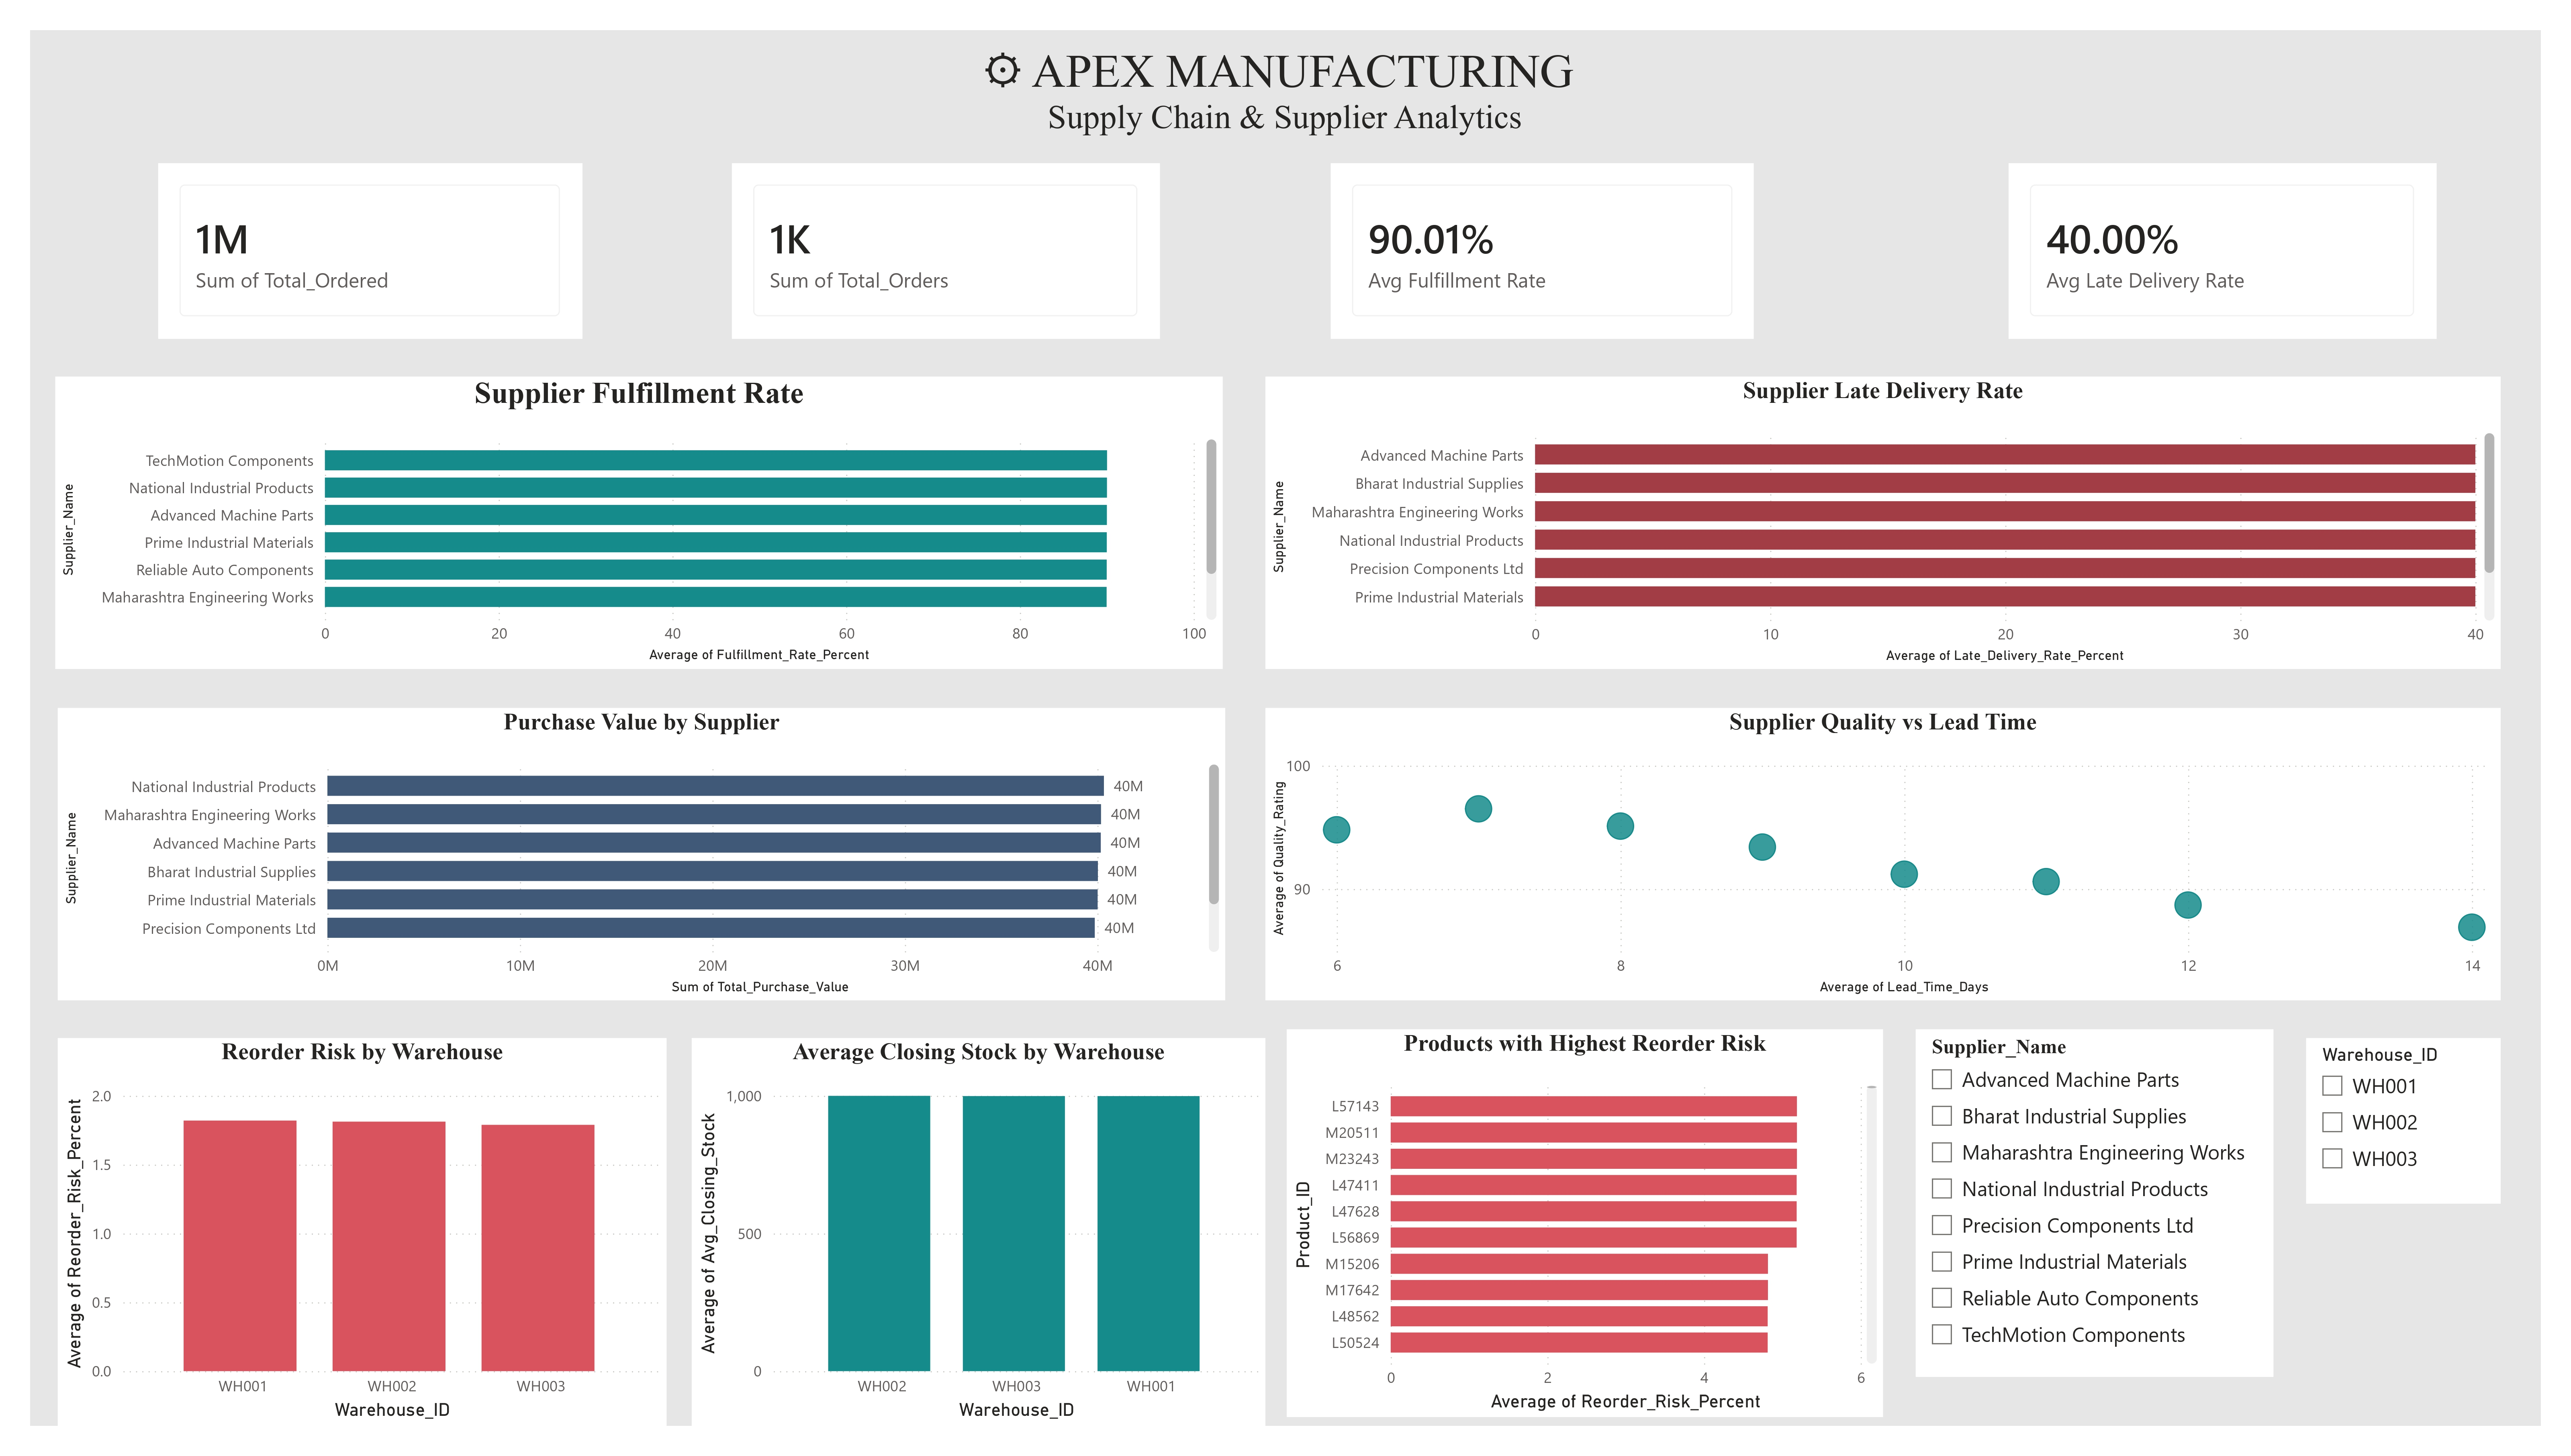

Layout of this report page (visuals, bound fields, positions):
{"tool":"powerbi","page":{"name":"Supply Chain & Supplier Analytics","canvas":[2000,1112],"ordinal":1},"visuals":[{"type":"cardVisual","fields":{"Data":["Sum(analytics vw_supplier_performance.Total_Orders)"]},"box":[559,106.2,341,139.7],"z":0},{"type":"cardVisual","fields":{"Data":["Sum(analytics vw_supplier_performance.Total_Ordered)"]},"box":[102.5,106.2,337.3,139.7],"z":1000},{"type":"cardVisual","fields":{"Data":["warehouse fact_machine_operations.Avg Fulfillment Rate"]},"box":[1036,106.2,337.3,139.7],"z":2000},{"type":"cardVisual","fields":{"Data":["warehouse fact_machine_operations.Avg Late Delivery Rate"]},"box":[1576.3,106.2,341,139.7],"z":3000},{"type":"clusteredBarChart","title":"Supplier Fulfillment Rate","fields":{"Category":["analytics vw_supplier_performance.Supplier_Name"],"Y":["Avg(analytics vw_supplier_performance.Fulfillment_Rate_Percent)"]},"box":[20.5,275.8,929.8,232.9],"z":4000},{"type":"clusteredBarChart","title":"Supplier Late Delivery Rate","fields":{"Category":["analytics vw_supplier_performance.Supplier_Name"],"Y":["Avg(analytics vw_supplier_performance.Late_Delivery_Rate_Percent)"]},"box":[983.8,275.8,983.8,232.9],"z":5000},{"type":"clusteredBarChart","title":"Purchase Value by Supplier","fields":{"Category":["analytics vw_supplier_performance.Supplier_Name"],"Y":["Sum(analytics vw_supplier_performance.Total_Purchase_Value)"]},"box":[22.4,540.4,929.8,232.9],"z":6000},{"type":"clusteredColumnChart","title":"Reorder Risk by Warehouse","fields":{"Category":["analytics vw_inventory_risk.Warehouse_ID"],"Y":["Avg(analytics vw_inventory_risk.Reorder_Risk_Percent)"]},"box":[22.4,803.1,484.5,309.3],"z":7000},{"type":"clusteredColumnChart","title":"Average Closing Stock by Warehouse","fields":{"Category":["analytics vw_inventory_risk.Warehouse_ID"],"Y":["Avg(analytics vw_inventory_risk.Avg_Closing_Stock)"]},"box":[527.3,803.1,456.5,309.3],"z":8000},{"type":"clusteredBarChart","title":"Products with Highest Reorder Risk","fields":{"Category":["analytics vw_inventory_risk.Product_ID"],"Y":["Avg(analytics vw_inventory_risk.Reorder_Risk_Percent)"]},"box":[1000.6,795.6,475.1,309.3],"z":9000},{"type":"scatterChart","title":"Supplier Quality vs Lead Time","fields":{"X":["Avg(analytics vw_supplier_performance.Lead_Time_Days)"],"Category":["analytics vw_supplier_performance.Supplier_Name"],"Y":["Avg(analytics vw_supplier_performance.Quality_Rating)"],"Size":["Sum(analytics vw_supplier_performance.Total_Purchase_Value)"]},"box":[983.8,540.4,983.8,232.9],"z":10000},{"type":"textbox","box":[0,0,1999.3,93.2],"z":11000},{"type":"slicer","fields":{"Values":["analytics vw_supplier_performance.Supplier_Name"]},"box":[1501.8,795.6,285.1,277.6],"z":12000},{"type":"slicer","fields":{"Values":["analytics vw_inventory_risk.Warehouse_ID"]},"box":[1813,803.1,154.7,132.3],"z":13000},{"type":"cardVisual","fields":{"Data":["Sum(analytics vw_supplier_performance.Total_Purchase_Value)"]},"box":[1219.7,621.5,425.3,266.1],"z":13001}]}

Visuals, with their boxes on the page's 2000x1112 design canvas (x1, y1, x2, y2). These are canvas units, not pixel positions in the 2571x1456 screenshot, which may show the page scaled, cropped or inside an application window:
cardVisual - Sum(analytics vw_supplier_performance.Total_Orders): 559,106,900,246
cardVisual - Sum(analytics vw_supplier_performance.Total_Ordered): 102,106,440,246
cardVisual - warehouse fact_machine_operations.Avg Fulfillment Rate: 1036,106,1373,246
cardVisual - warehouse fact_machine_operations.Avg Late Delivery Rate: 1576,106,1917,246
"Supplier Fulfillment Rate" clusteredBarChart: 20,276,950,509
"Supplier Late Delivery Rate" clusteredBarChart: 984,276,1968,509
"Purchase Value by Supplier" clusteredBarChart: 22,540,952,773
"Reorder Risk by Warehouse" clusteredColumnChart: 22,803,507,1112
"Average Closing Stock by Warehouse" clusteredColumnChart: 527,803,984,1112
"Products with Highest Reorder Risk" clusteredBarChart: 1001,796,1476,1105
"Supplier Quality vs Lead Time" scatterChart: 984,540,1968,773
textbox: 0,0,1999,93
slicer - analytics vw_supplier_performance.Supplier_Name: 1502,796,1787,1073
slicer - analytics vw_inventory_risk.Warehouse_ID: 1813,803,1968,935
cardVisual - Sum(analytics vw_supplier_performance.Total_Purchase_Value): 1220,622,1645,888
